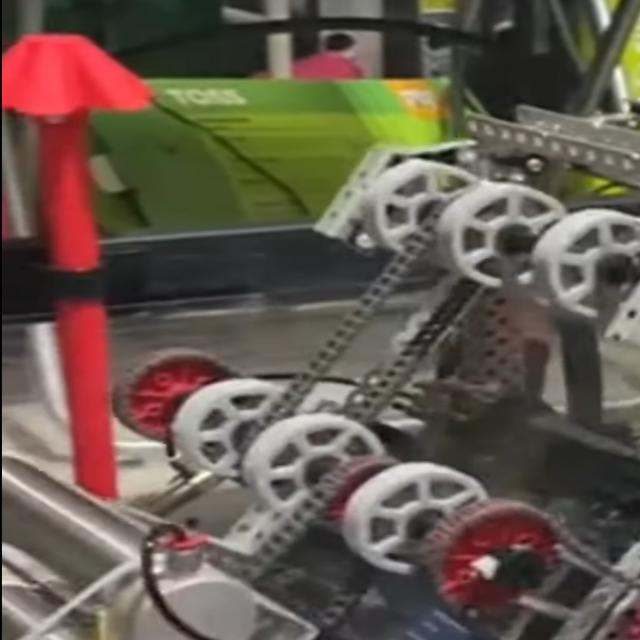zred-Stake-Head: (0, 35, 146, 115)
